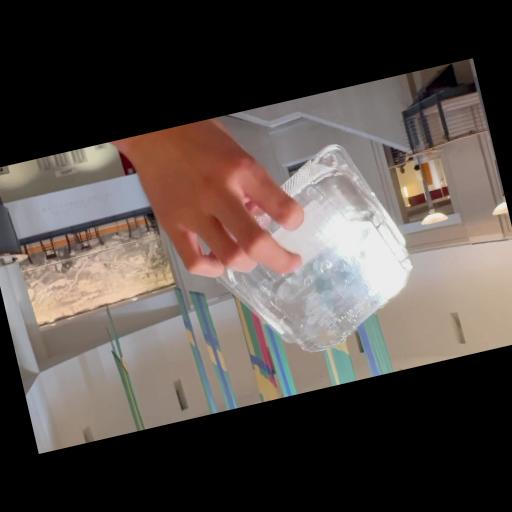small_plastic_container: (189, 131, 430, 375)
